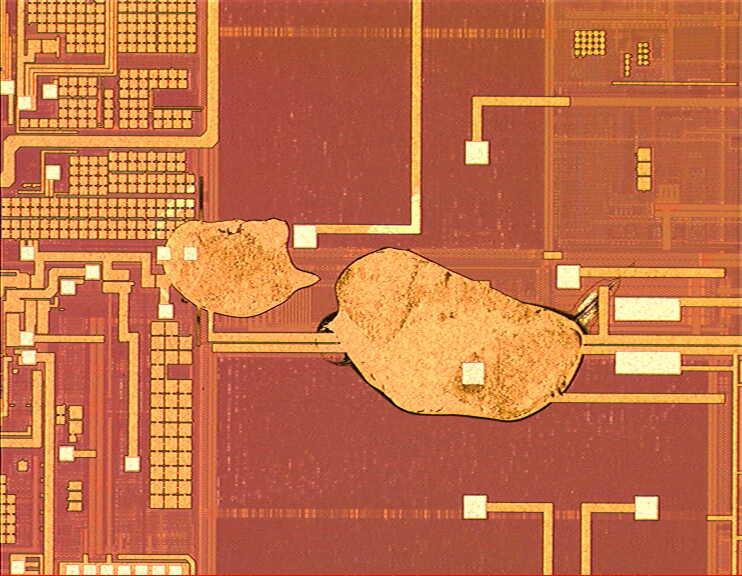BLOCK ETCH: (160, 217, 643, 426)
